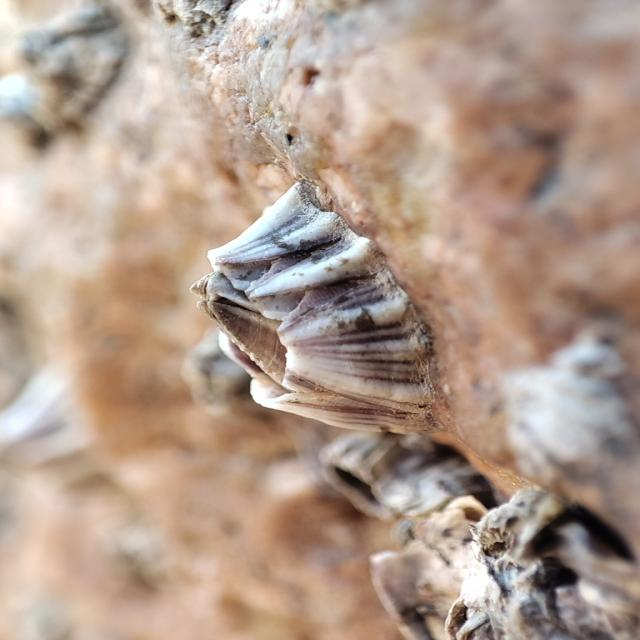barnacles: (184, 182, 423, 460)
